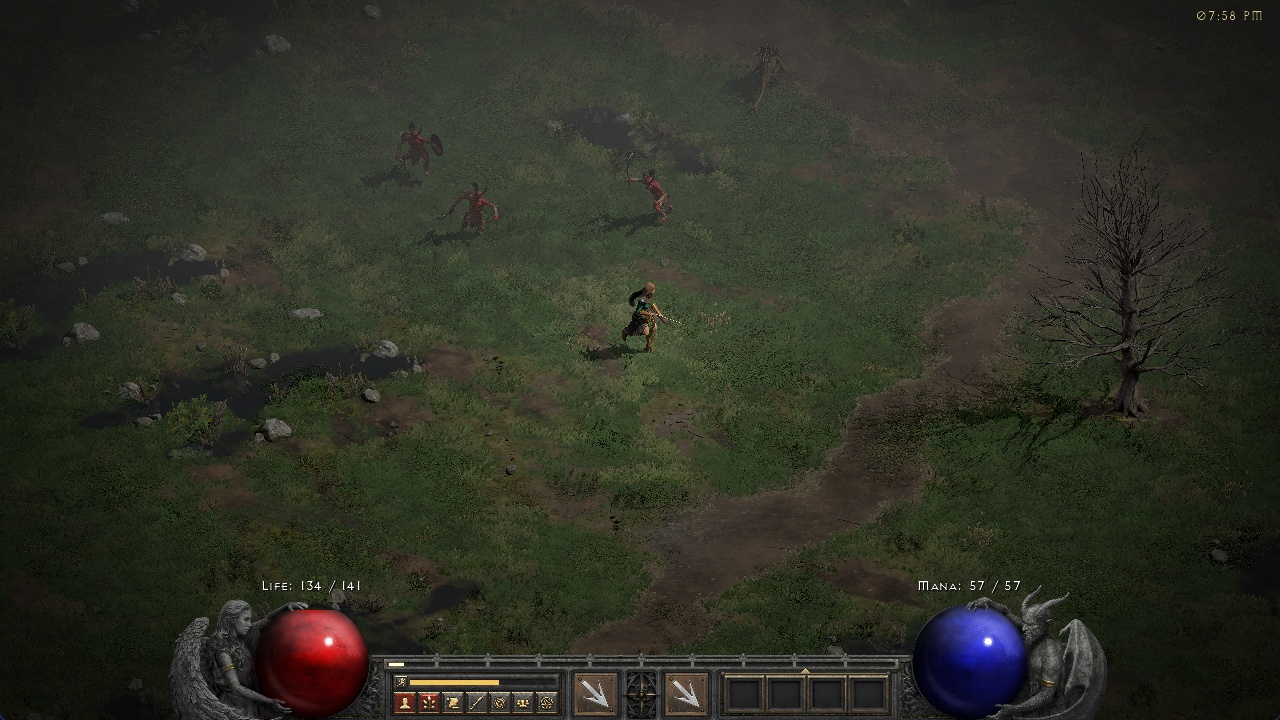fallen: (435, 179, 507, 244), (621, 152, 677, 222), (391, 119, 443, 174)
